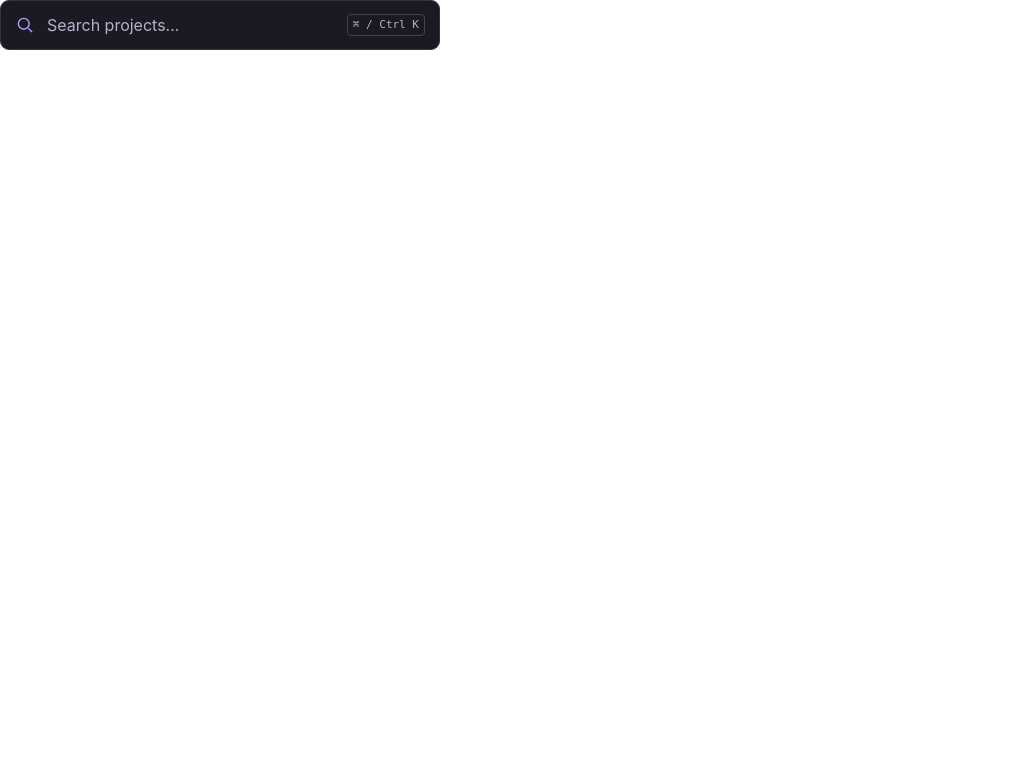
Test: allows clicking a project and restores the previous body scroll style
Press k
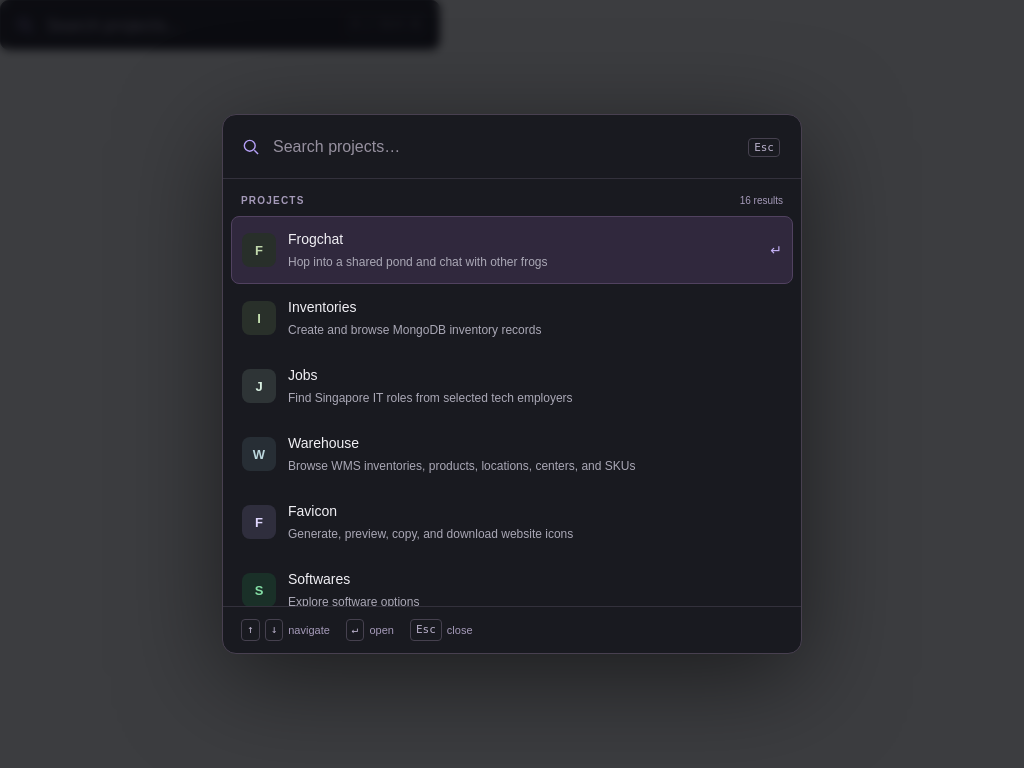
Click the option "Favicon" at point(259, 522), box [231,488,793,556]
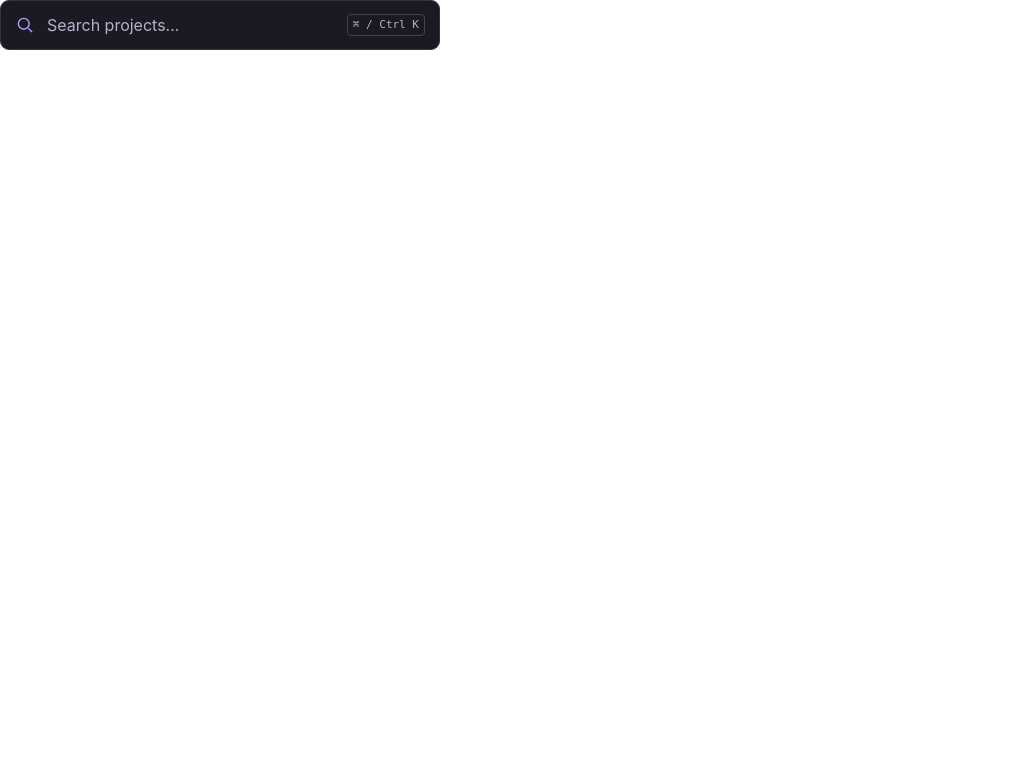
Result: the dialog is gone
